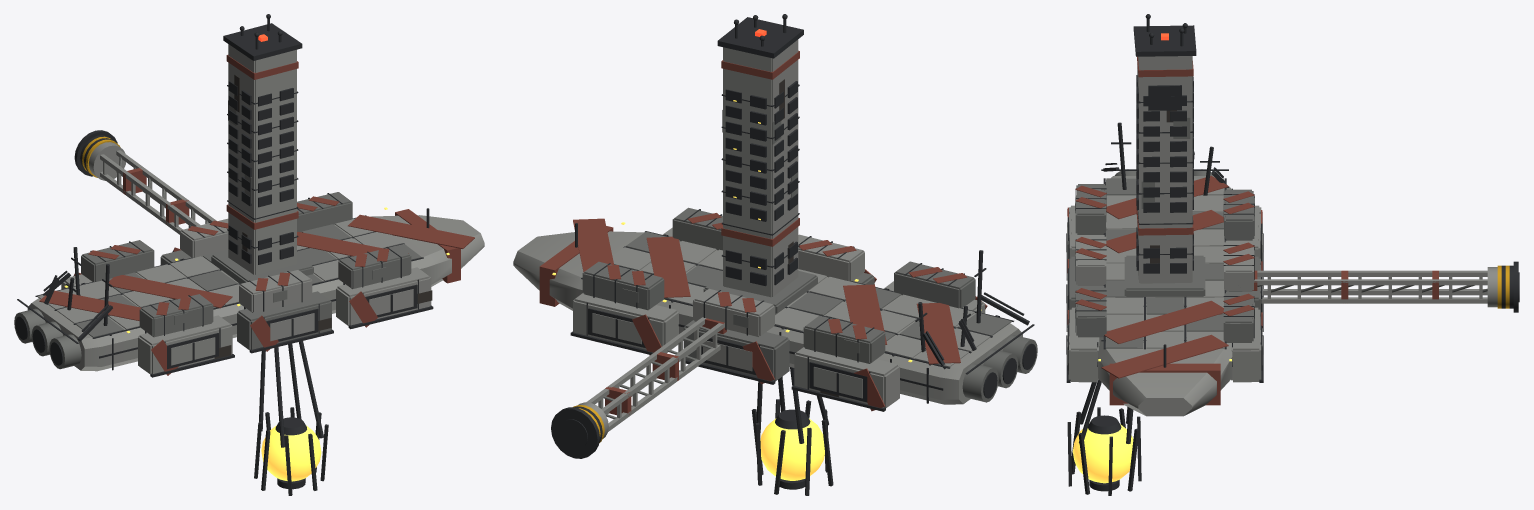
The model's file is derelict.glb.
3 views of the same model, side by side, from view 1: azimuth 30°, elevation 25°; view 2: azimuth 150°, elevation 25°; view 3: azimuth 270°, elevation 25° (orthographic). The views are drawn at different scales.
Visible parts, largest first — view 1: derelict_hull_grey, derelict_grime_dark, derelict_hull_grey_dark, derelict_union_red_faded, derelict_reactor_glow, derelict_scorch; view 2: derelict_hull_grey, derelict_grime_dark, derelict_hull_grey_dark, derelict_union_red_faded, derelict_reactor_glow; view 3: derelict_hull_grey, derelict_grime_dark, derelict_hull_grey_dark, derelict_union_red_faded, derelict_reactor_glow.
Boxes of the visible parts, x1,y1,x2,y2 form: derelict_hull_grey: (27, 44, 484, 373); derelict_grime_dark: (15, 14, 433, 495); derelict_hull_grey_dark: (14, 100, 421, 369); derelict_union_red_faded: (39, 55, 474, 375); derelict_reactor_glow: (64, 207, 449, 481); derelict_scorch: (214, 74, 432, 358); derelict_hull_grey: (513, 39, 1022, 438); derelict_grime_dark: (551, 14, 1036, 495); derelict_hull_grey_dark: (582, 110, 1037, 418); derelict_union_red_faded: (539, 50, 987, 415); derelict_reactor_glow: (552, 100, 981, 480); derelict_hull_grey: (1067, 56, 1497, 416); derelict_grime_dark: (1066, 14, 1519, 495); derelict_hull_grey_dark: (1069, 117, 1487, 348); derelict_union_red_faded: (1067, 56, 1438, 405); derelict_reactor_glow: (1072, 359, 1231, 483).
Bounding box in the file's own units: 157 × 152 × 135.
